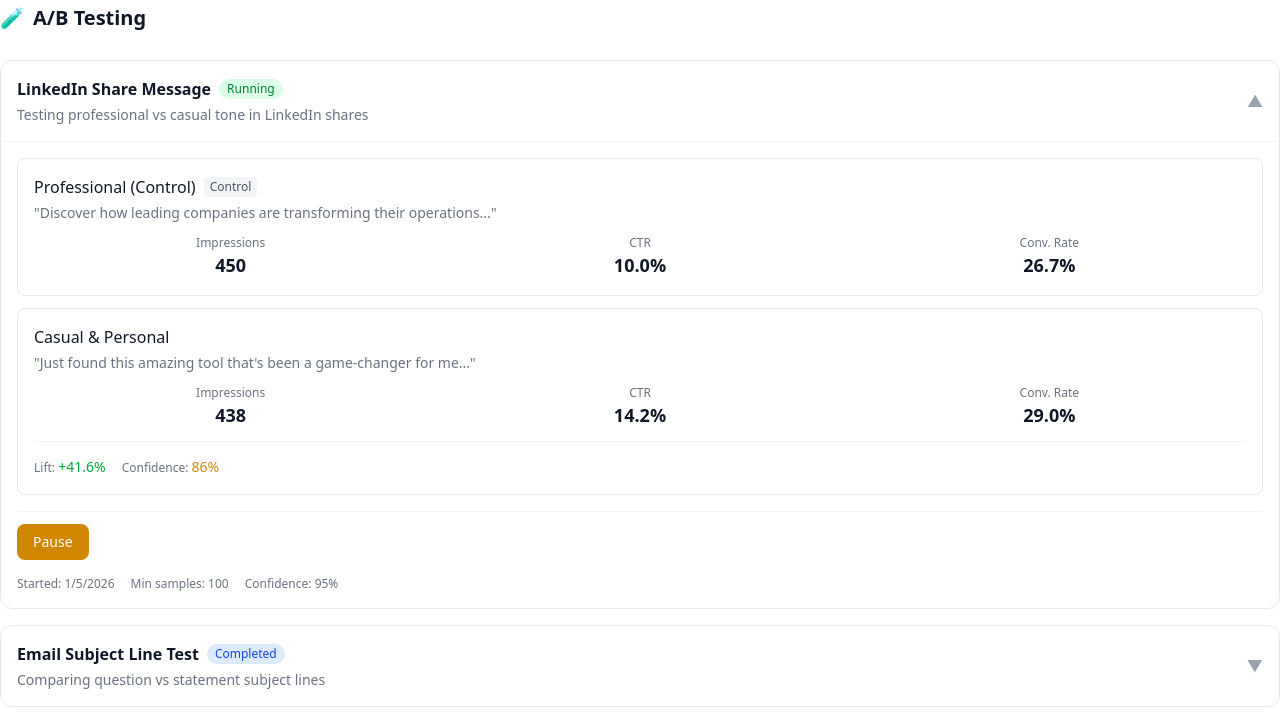
Scenario: ABTestManager Component › should show winner badge on completed experiments
# Click on the completed experiment to expand it (it's collapsed by default)
Click the heading "Email Subject Line Test". click: (108, 654)
box: [17,642,199,666]
(page scrolled)
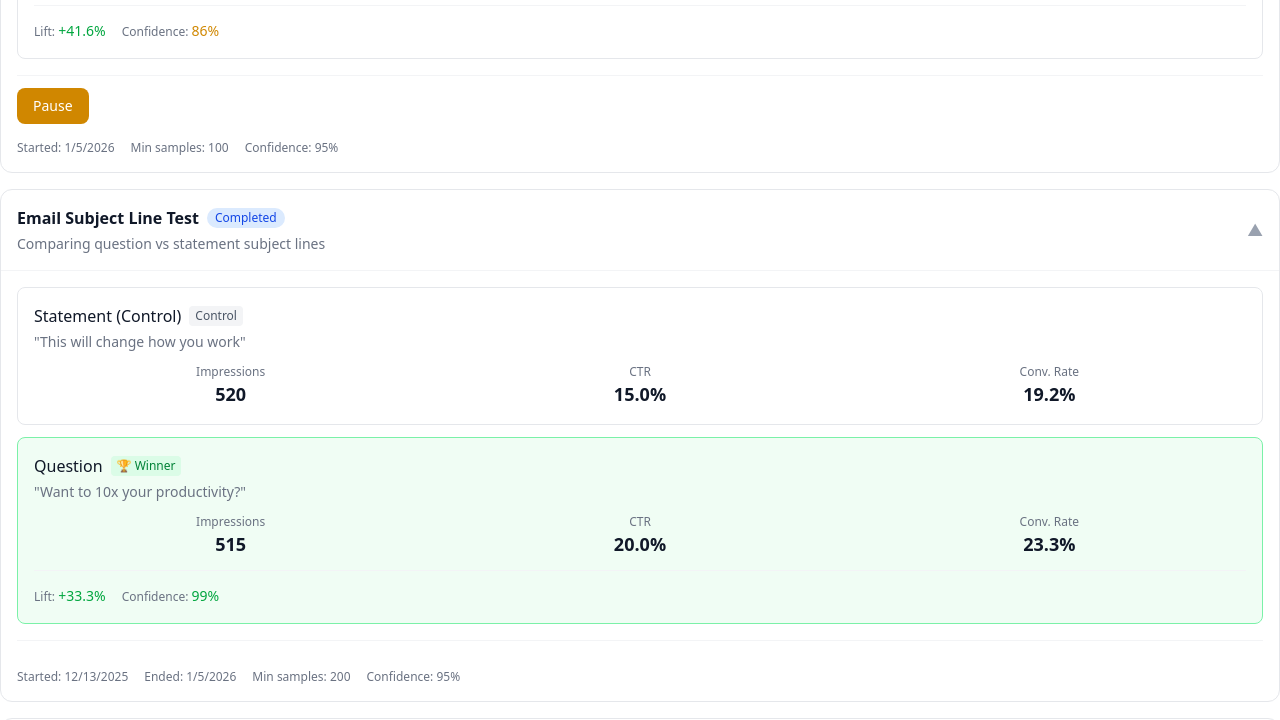
Now the text "🏆 Winner" is shown, box [110,456,181,476]
